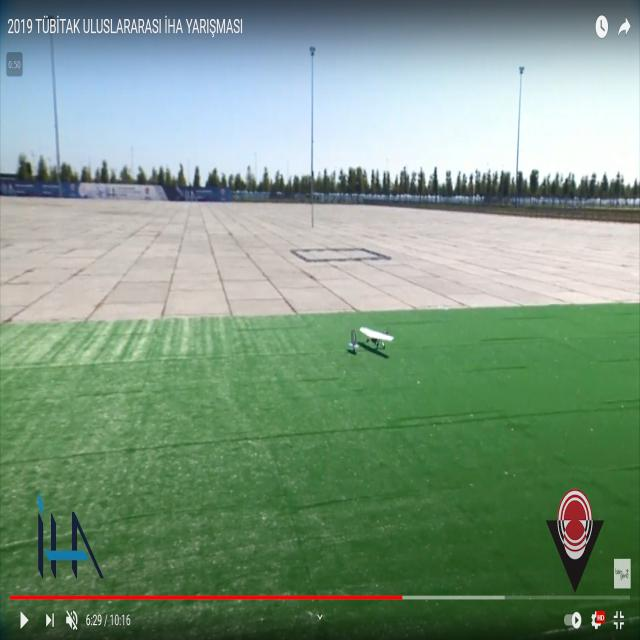iha: (349, 325, 394, 354)
